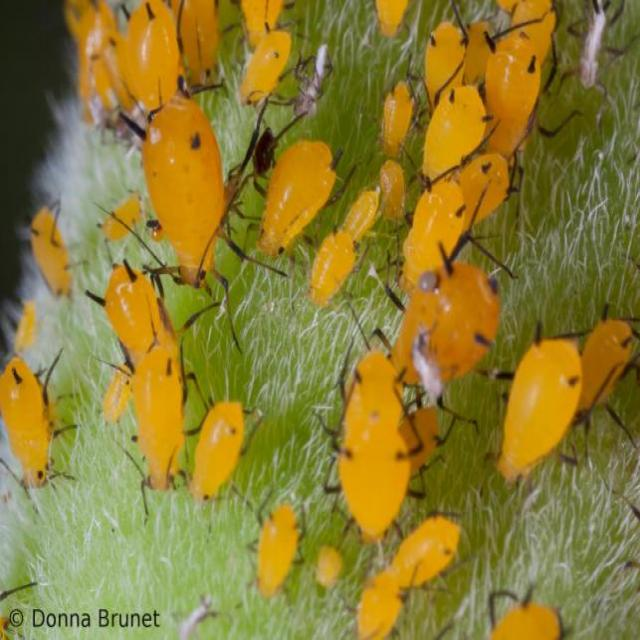Aphid-Grown-: (128, 81, 273, 319), (322, 342, 426, 534), (114, 330, 211, 507), (485, 308, 576, 486), (243, 120, 354, 252), (0, 329, 79, 496), (173, 379, 258, 514), (235, 474, 309, 602), (568, 297, 634, 438), (398, 167, 466, 296), (416, 83, 493, 180), (386, 509, 470, 594), (373, 73, 422, 151)
